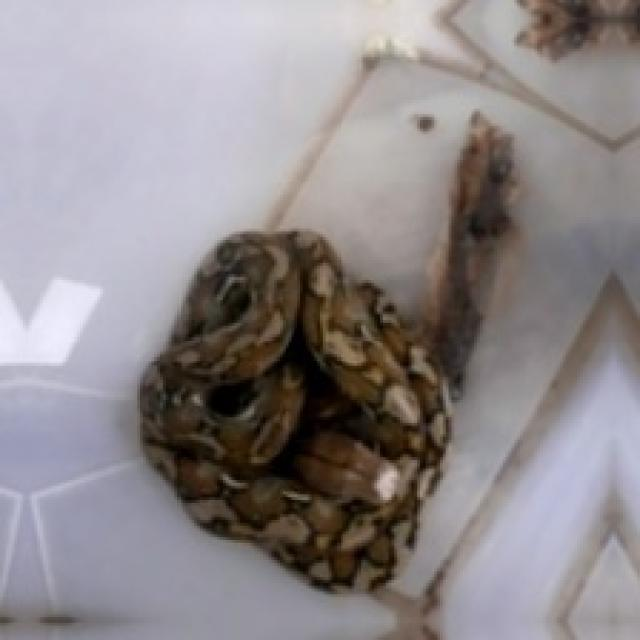reticulated python: (140, 231, 451, 589)
